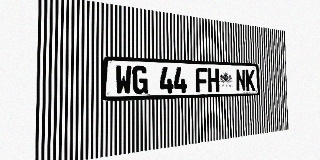4: (159, 66, 173, 93), (174, 67, 187, 93)
F: (195, 68, 208, 92)
G: (132, 66, 148, 94)
H: (208, 68, 219, 92)
K: (245, 69, 255, 91)
N: (235, 69, 246, 91)
W: (115, 65, 132, 95)
